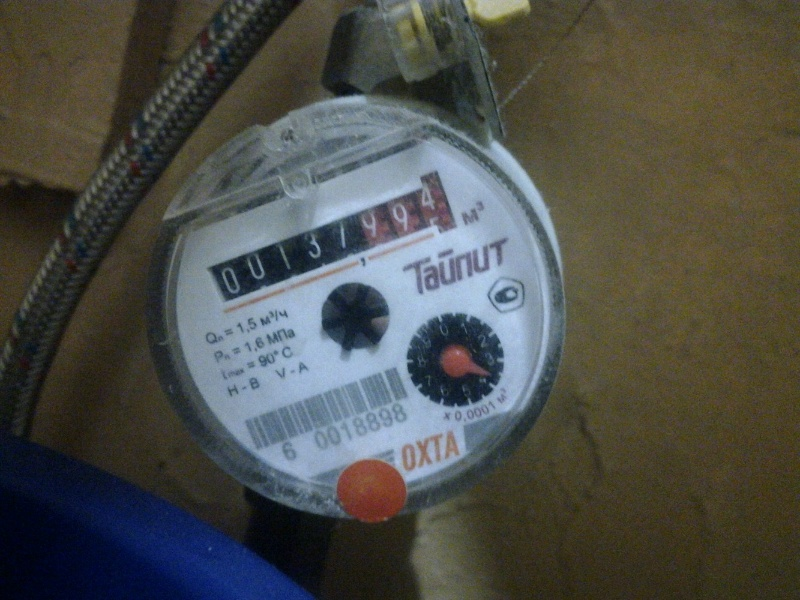meter: (193, 184, 468, 280)
